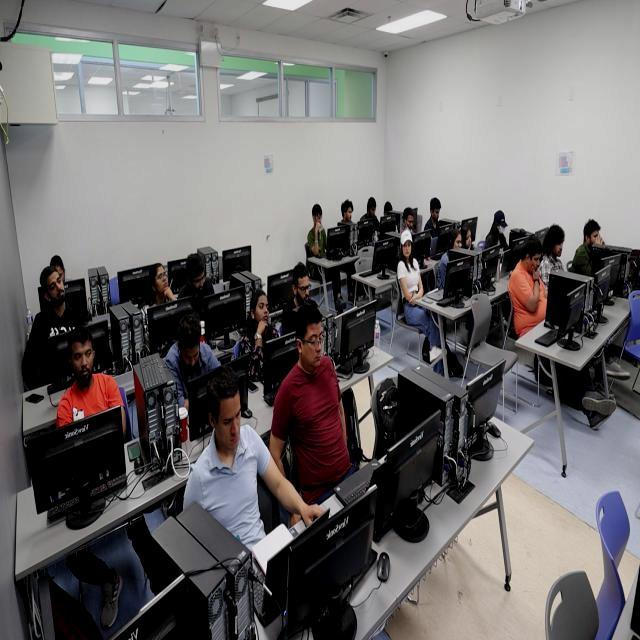Looking away: (218, 389, 242, 450), (302, 322, 324, 370), (180, 341, 200, 368), (296, 274, 310, 303), (190, 270, 206, 292), (529, 252, 541, 273), (588, 230, 600, 248), (552, 240, 564, 258), (402, 240, 412, 258), (453, 233, 463, 250), (405, 213, 414, 231), (464, 229, 472, 249), (344, 206, 352, 223), (314, 212, 322, 227), (369, 205, 376, 218), (434, 208, 439, 222)
Looking forward: (71, 338, 94, 382), (46, 268, 66, 303), (253, 294, 270, 326), (154, 264, 169, 294)
